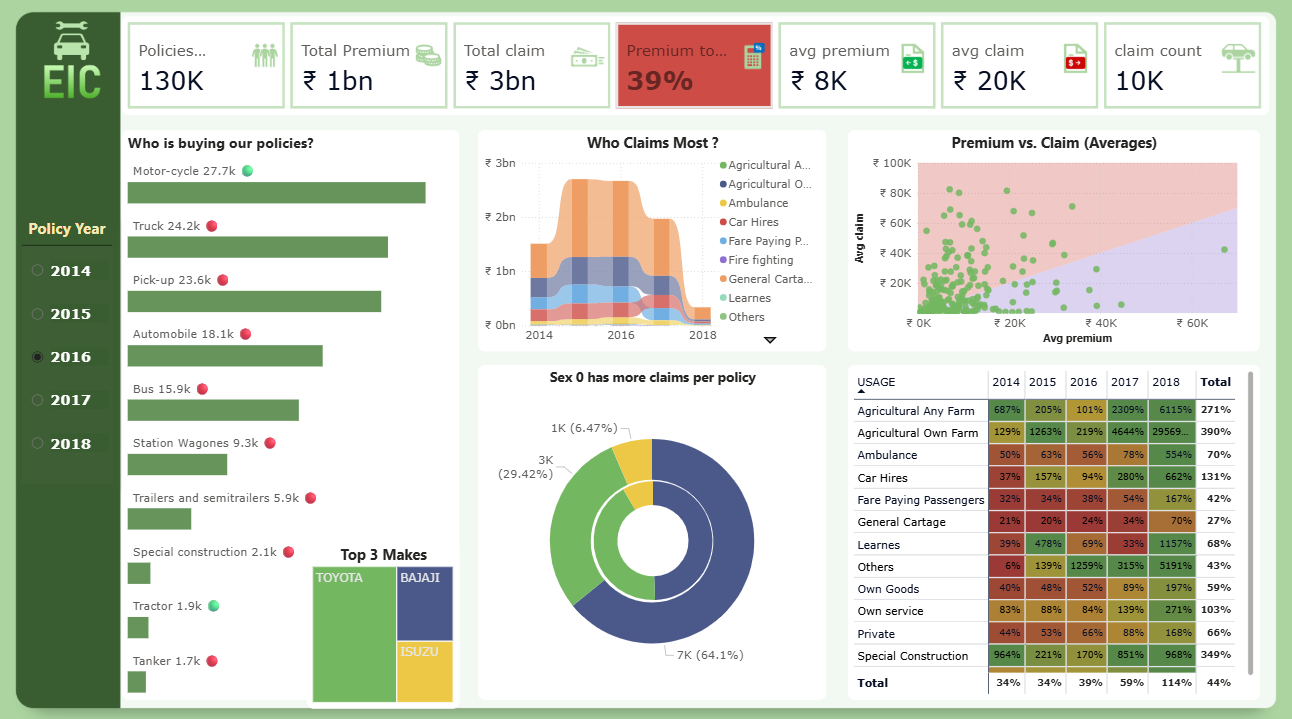

The dashboard page shown, as its layout file describes it:
{"tool":"powerbi","page":{"name":"Page 2","canvas":[1920,1080],"ordinal":1},"visuals":[{"type":"cardVisual","fields":{"Data":["policies.Policies opened","policies.Total Premium","policies.Total claim","policies.Premium to claims ratio","policies.avg premium","policies.avg claim 2","policies.claim count"]},"box":[184,24,1700,146],"z":0},{"type":"slicer","title":"Policy Year","fields":{"Values":["calendar.Year"]},"box":[36,322,134,394],"z":1000},{"type":"clusteredBarChart","title":"Who is buying our policies?","fields":{"Category":["policies.TYPE_VEHICLE"],"Y":["policies.Dummy series","policies.Policies opened"]},"box":[184,192,500,844],"z":2000},{"type":"ribbonChart","title":"Who Claims Most ?","fields":{"Category":["calendar.Year"],"Y":["policies.Total claim"],"Series":["policies.USAGE"]},"box":[712,192,516,328],"z":3000},{"type":"donutChart","title":"Sex 0 has more claims per policy","fields":{"Category":["policies.SEX"],"Y":["policies.claim count"]},"box":[712,540,516,496],"z":4000},{"type":"donutChart","fields":{"Y":["policies.Policies opened"],"Category":["policies.SEX"]},"box":[856,672,230,258],"z":5000},{"type":"scatterChart","title":"Premium vs. Claim (Averages)","fields":{"X":["policies.avg premium"],"Y":["policies.avg claim 2"],"Category":["policies.TYPE_VEHICLE","policies.MAKE"]},"box":[1260,192,610,328],"z":6000},{"type":"pivotTable","fields":{"Rows":["policies.USAGE"],"Columns":["calendar.Year"],"Values":["policies.Premium to claims ratio"]},"box":[1260,540,610,496],"z":7000},{"type":"image","box":[36,20,148,150],"z":8000},{"type":"treemap","title":"Top 3 Makes ","fields":{"Values":["policies.Policies opened"],"Group":["policies.MAKE"]},"box":[458,802,226,248],"z":9000}]}

Visuals, with their boxes in screenshot pixels (x1, y1, x2, y2), scaled from the page's 1920x1080 canvas onto the 1292x719 screenshot:
cardVisual - policies.Policies opened x policies.Total Premium: 124 16 1268 113
"Policy Year" slicer: 24 214 114 477
"Who is buying our policies?" clusteredBarChart: 124 128 460 690
"Who Claims Most ?" ribbonChart: 479 128 826 346
"Sex 0 has more claims per policy" donutChart: 479 360 826 690
donutChart - policies.Policies opened x policies.SEX: 576 447 731 619
"Premium vs. Claim (Averages)" scatterChart: 848 128 1258 346
pivotTable - policies.USAGE x calendar.Year: 848 360 1258 690
image: 24 13 124 113
"Top 3 Makes " treemap: 308 534 460 699
